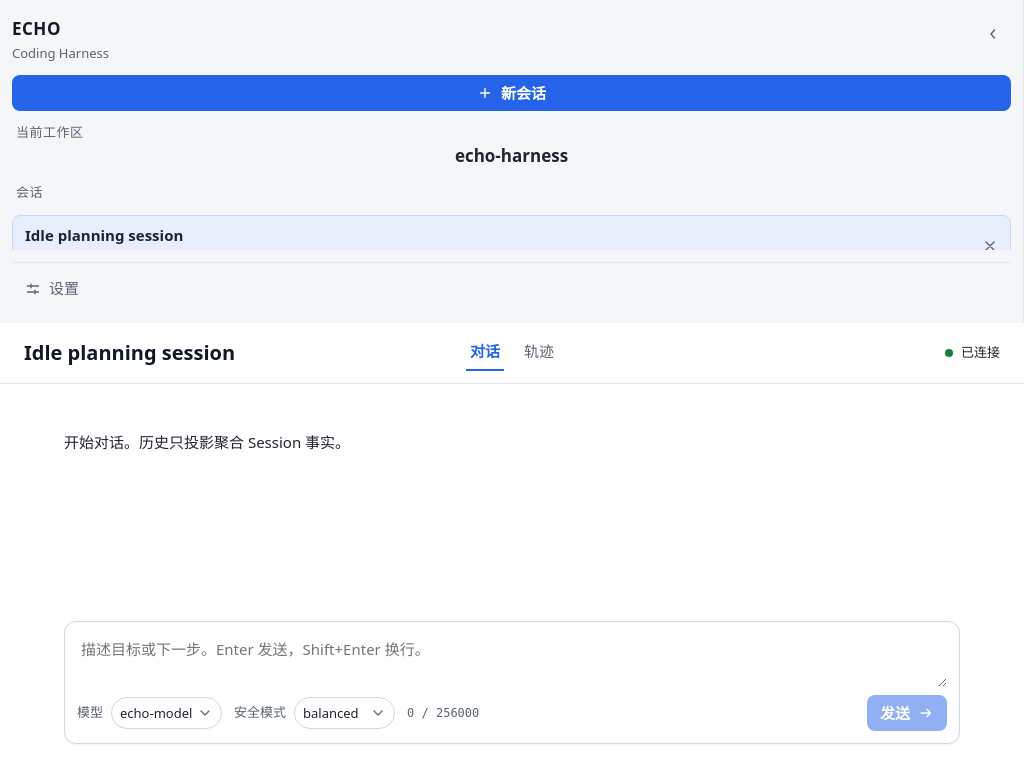
Session rail paging through Fake transport › requires confirmation before deleting an idle session
This screenshot has width=1024, height=768.
Click the button named "删除会话 Idle planning session" at x=990, y=246, box [974,230,1006,262]
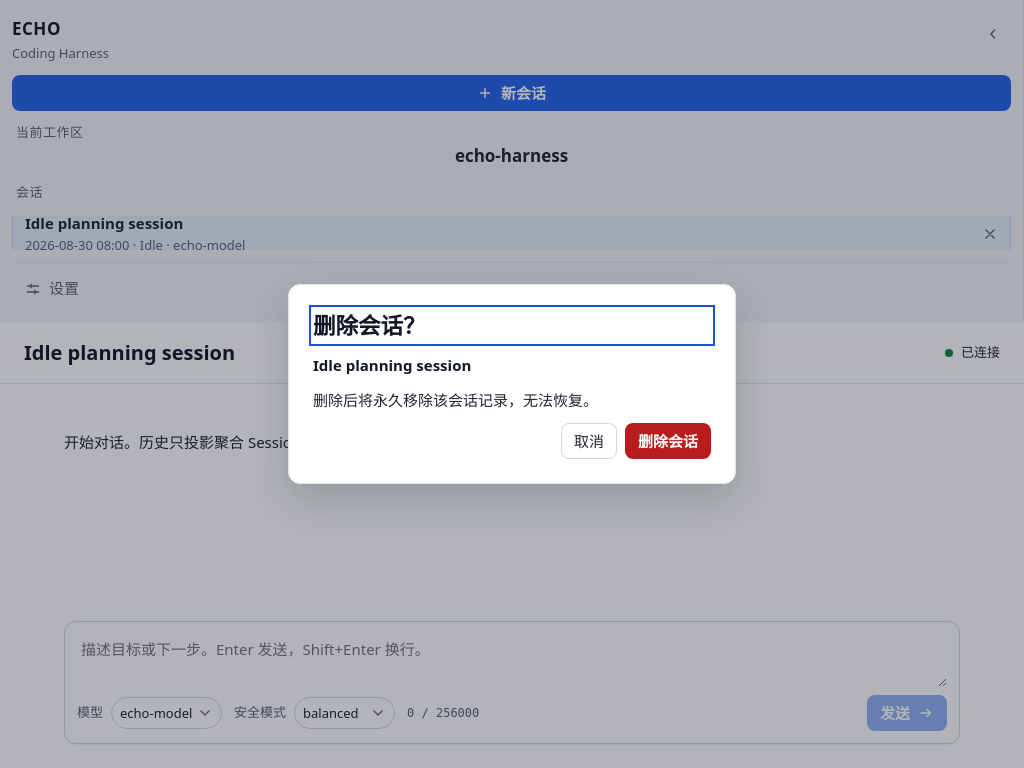
Expected: the text "删除后将永久移除该会话记录，无法恢复。" is shown, [313,390,598,410]
Click the button "取消" at x=589, y=441, box [561,423,617,459]
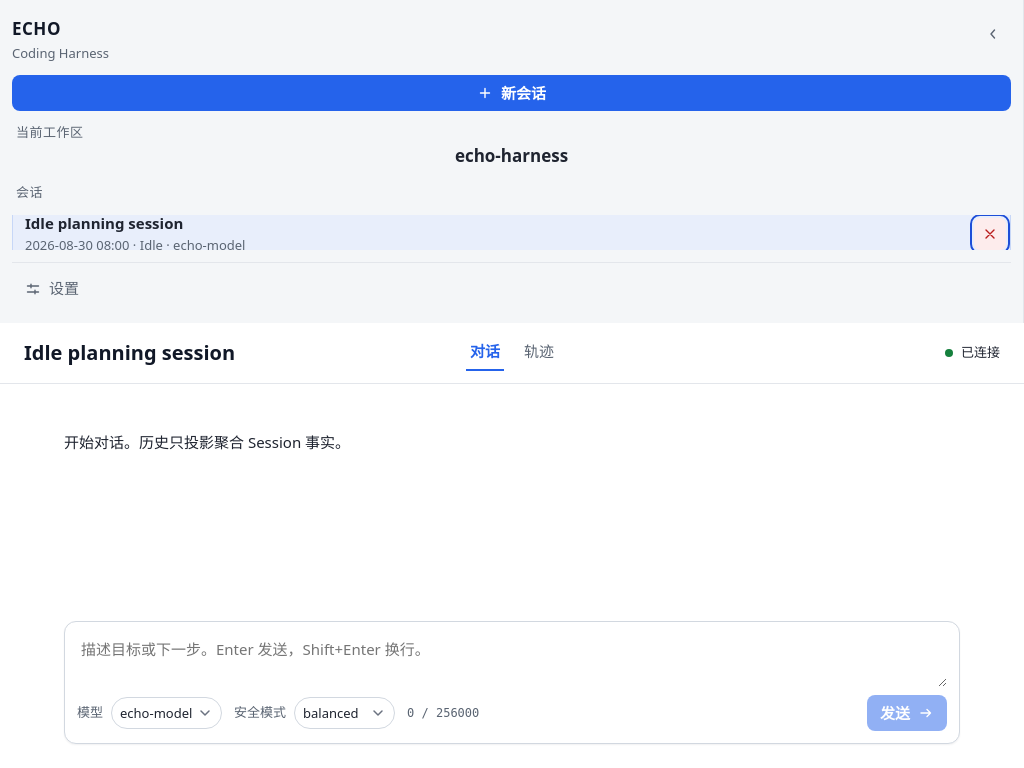
Click the button named "删除会话 Idle planning session" at x=990, y=234, box [974,218,1006,250]
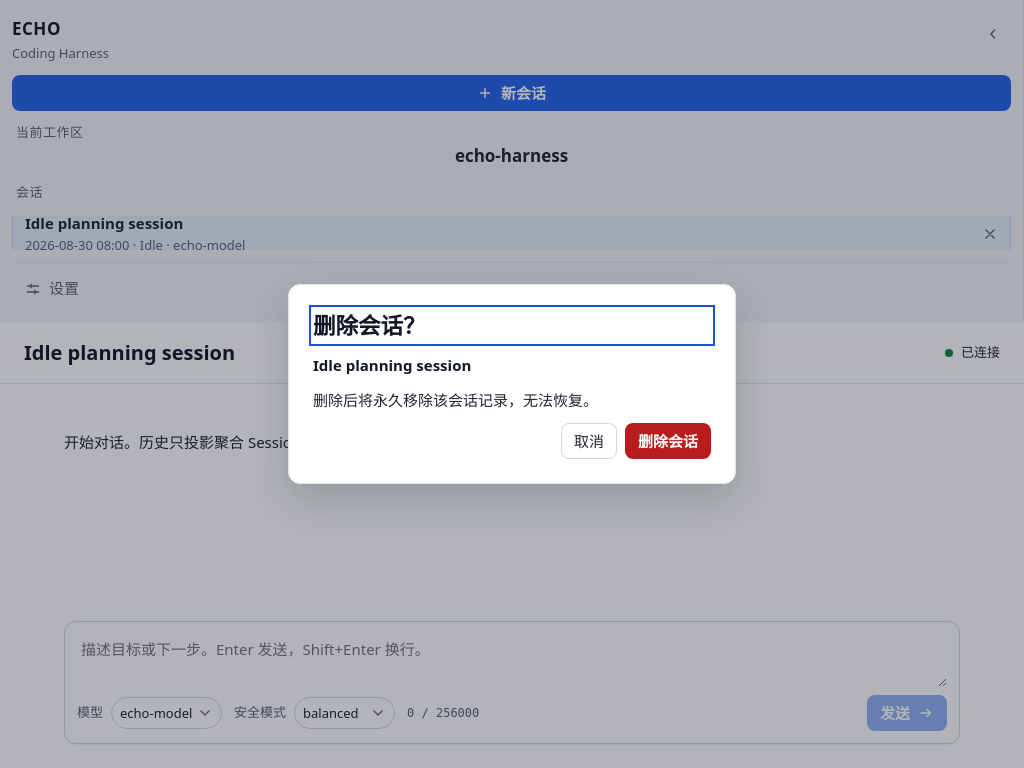
Click the button "删除会话" at x=668, y=441, box [625,423,711,459]
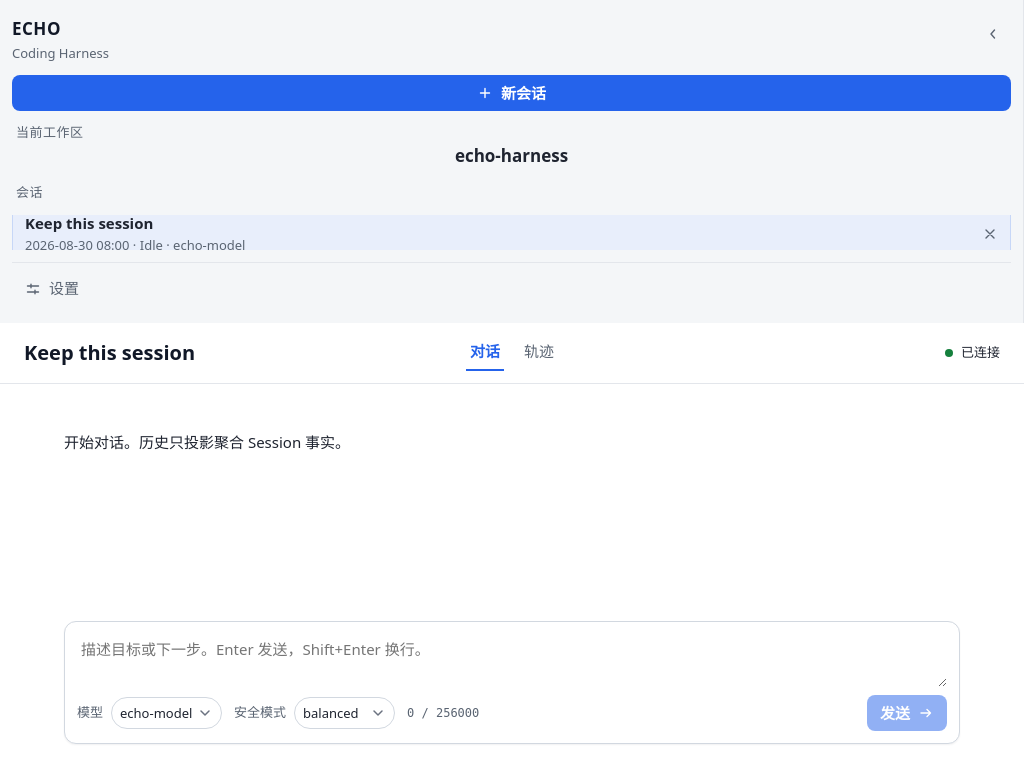
Expected: the button titled "Idle planning session" is gone
Expected: the heading "Keep this session" is shown, [24,338,195,368]
